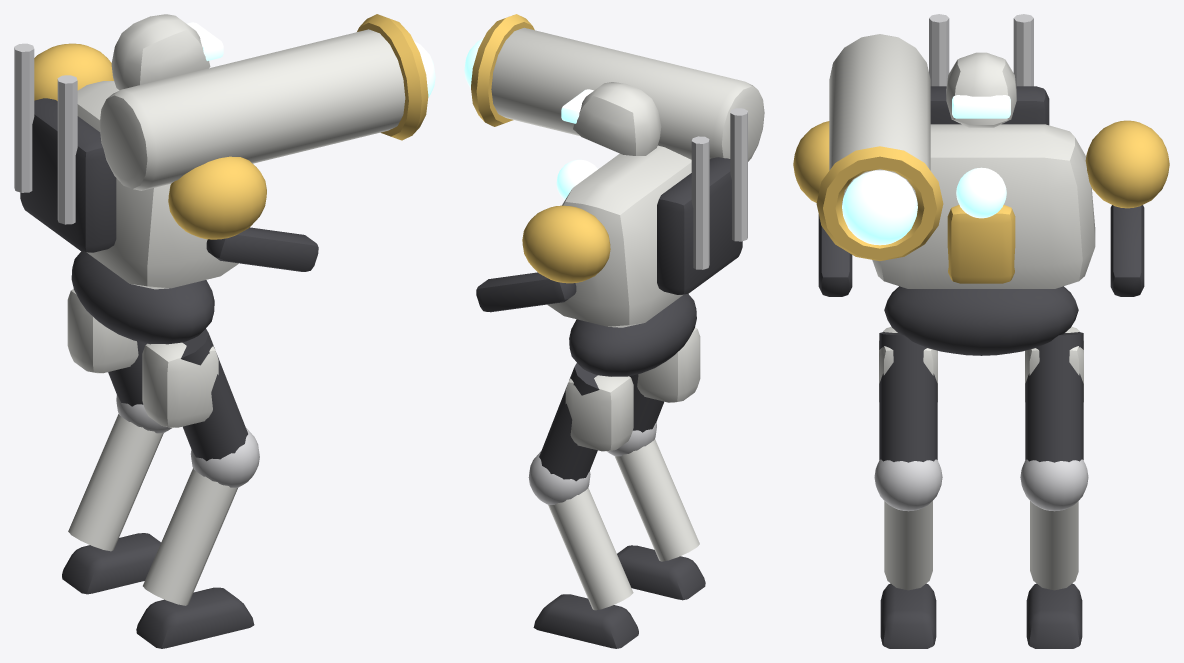
Rendered from rob_at.glb.
3 renders of one model, left to right at view 1: azimuth 30°, elevation 25°; view 2: azimuth 150°, elevation 25°; view 3: azimuth 270°, elevation 25°, orthographic. The views are drawn at different scales.
Parts seen in each view (by area): view 1: torso_m, knee_r_m, knee_l_m, leg_r_m, leg_l_m; view 2: torso_m, knee_l_m, knee_r_m, leg_l_m, leg_r_m; view 3: torso_m, knee_l_m, knee_r_m, leg_l_m, leg_r_m.
Boxes of the visible parts, box(x1,y1,x2,y2) form: torso_m: box(14, 14, 435, 344); knee_r_m: box(136, 428, 259, 648); knee_l_m: box(62, 395, 171, 594); leg_r_m: box(142, 329, 247, 461); leg_l_m: box(67, 289, 146, 406); torso_m: box(464, 14, 764, 376); knee_l_m: box(528, 451, 638, 648); knee_r_m: box(607, 422, 705, 600); leg_l_m: box(539, 363, 633, 481); leg_r_m: box(629, 327, 700, 432); torso_m: box(793, 14, 1169, 355); knee_l_m: box(1020, 459, 1088, 648); knee_r_m: box(874, 459, 942, 648); leg_l_m: box(1025, 326, 1083, 462); leg_r_m: box(879, 326, 937, 462).
Bounding box in the file's own units: 0.457 × 0.746 × 0.445.
